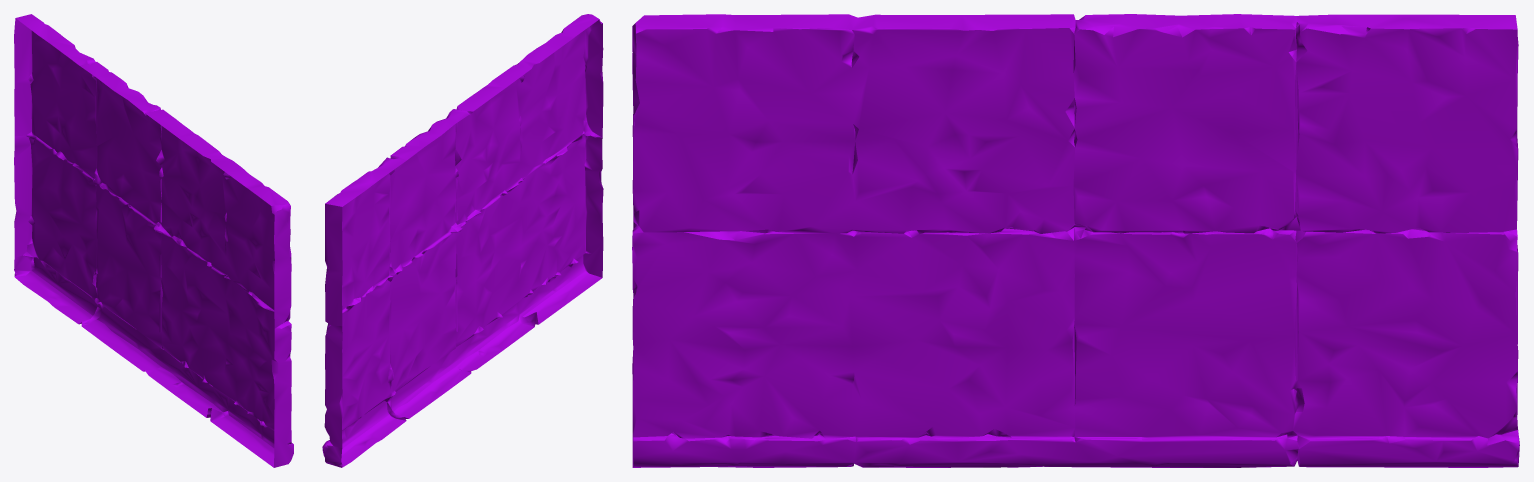
Rendered from Load_2.fbx.
The picture shows the model from 3 angles, left to right: view 1: azimuth 30°, elevation 25°; view 2: azimuth 150°, elevation 25°; view 3: azimuth 270°, elevation 25°; orthographic projection. The views are drawn at different scales.
Visible parts, largest first — view 1: Load_2; view 2: Load_2; view 3: Load_2.
Boxes of the visible parts, left/top/right/bottom form: Load_2: left=14, top=14, right=293, bottom=467; Load_2: left=322, top=14, right=603, bottom=467; Load_2: left=632, top=14, right=1519, bottom=467.
Size of the model in its own units: 26.21 by 320 by 580.
